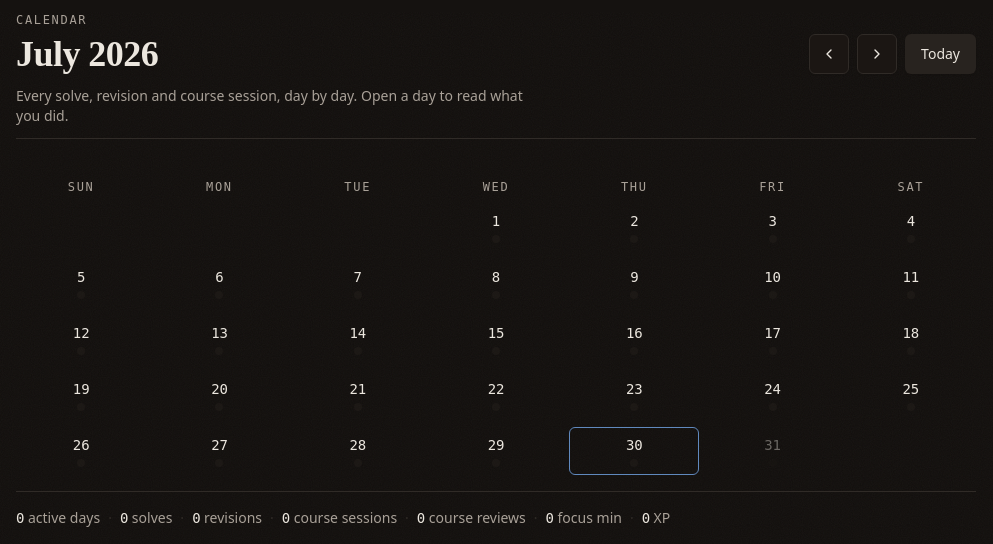
Test: CalendarPage › the previous-month chevron navigates back to "June 2026"
The width and height of the screenshot is (993, 544).
Click the button named "Previous month": (829, 54) [809,34,849,74]
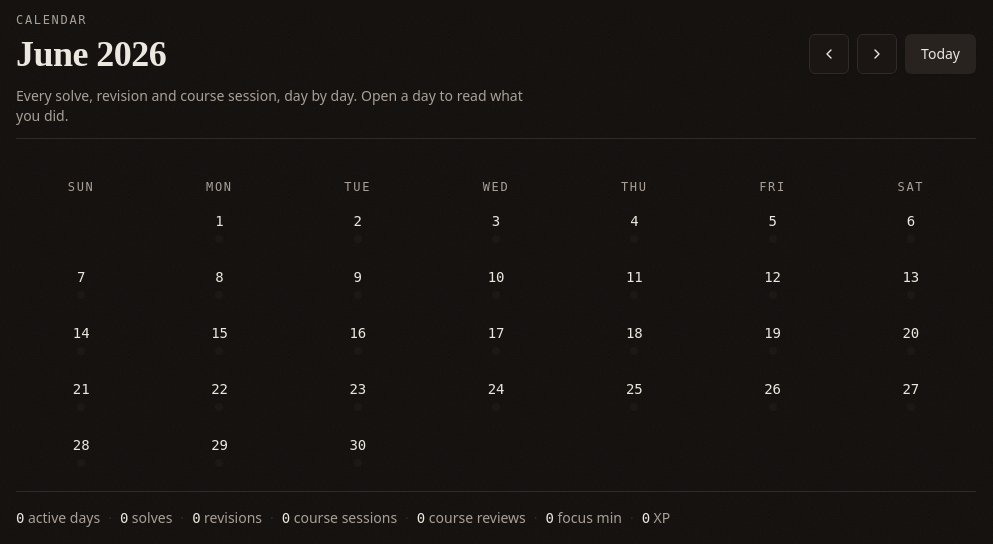
Expected: the heading "June 2026" is shown, [16,34,166,74]
